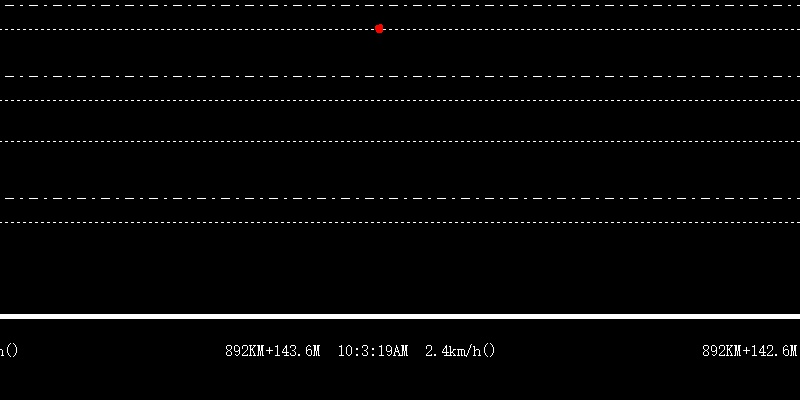face_1: (374, 23, 385, 33)
